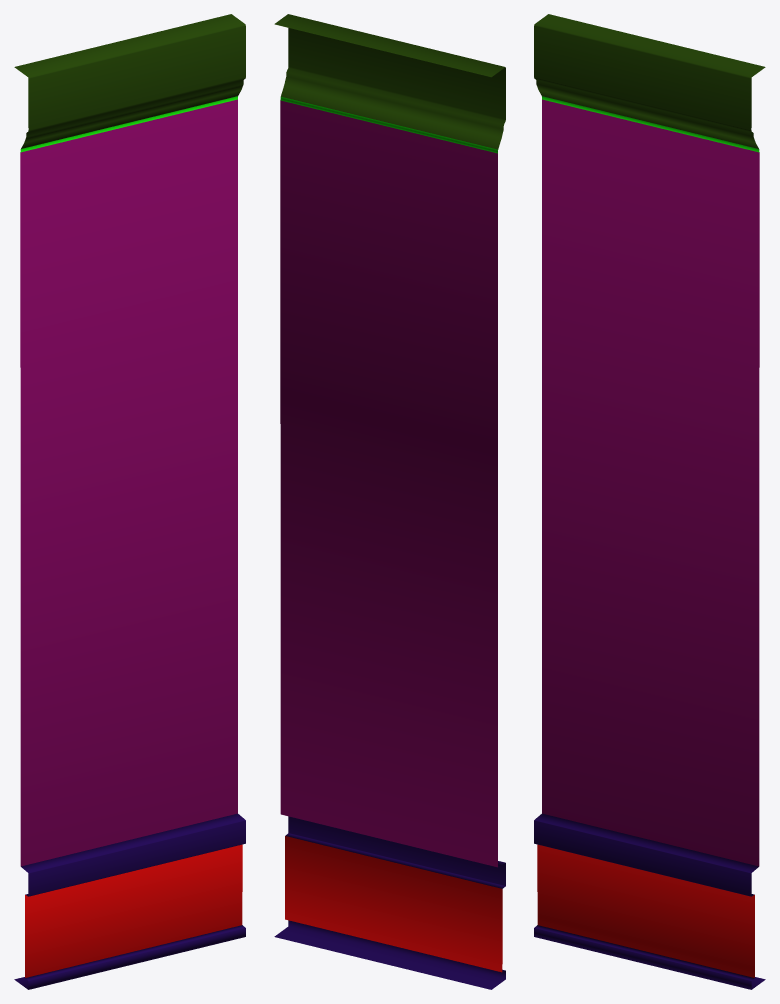
File: InnerWallShortV1.fbx
The picture shows the model from 3 angles, left to right: view 1: azimuth 30°, elevation 25°; view 2: azimuth 150°, elevation 25°; view 3: azimuth 330°, elevation 25°; orthographic projection.
Visible parts, largest first — view 1: Inner Wall Short; view 2: Inner Wall Short; view 3: Inner Wall Short.
Part boxes in pixels (<box>): Inner Wall Short: <box>14,14,245,989</box>; Inner Wall Short: <box>274,14,505,989</box>; Inner Wall Short: <box>534,14,765,989</box>.
Size of the model in its own units: 21.76 by 87.28 by 2.5.
